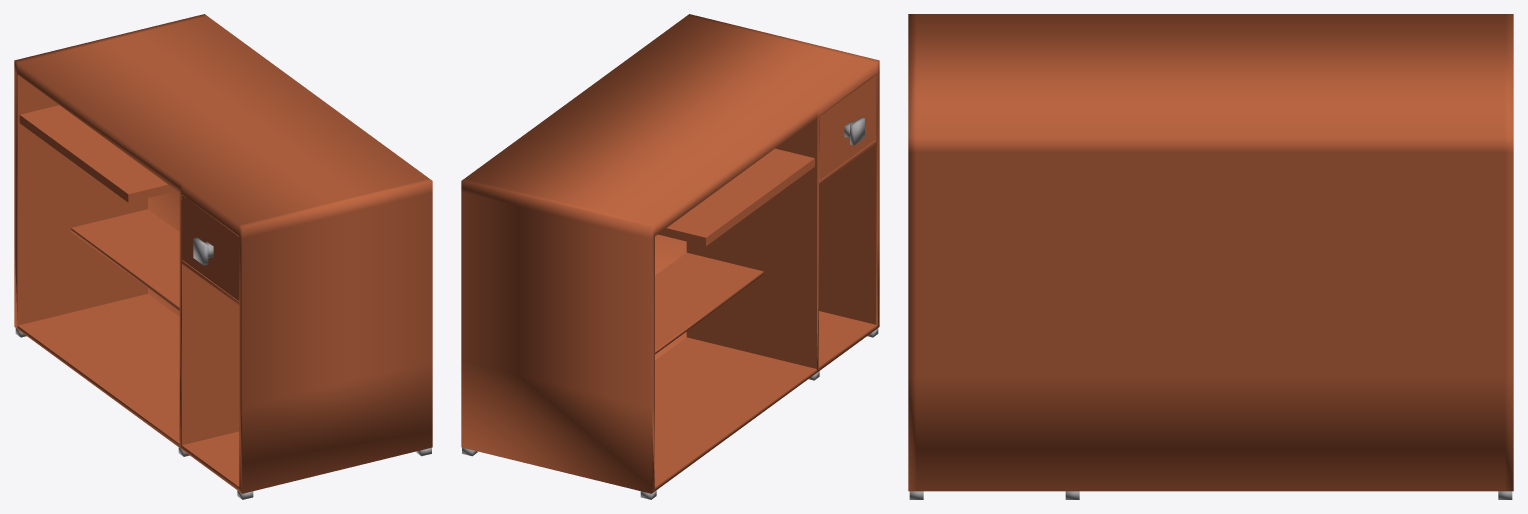
Rendered from desk.obj.
3 views of the same model, side by side, from view 1: azimuth 30°, elevation 25°; view 2: azimuth 150°, elevation 25°; view 3: azimuth 270°, elevation 25° (orthographic). The views are drawn at different scales.
Parts seen in each view (by area): view 1: Desk_bedroom.024; view 2: Desk_bedroom.024; view 3: Desk_bedroom.024.
Part boxes in pixels (x1,y1,x2,y2): Desk_bedroom.024: [14, 14, 432, 499]; Desk_bedroom.024: [461, 14, 879, 499]; Desk_bedroom.024: [908, 14, 1513, 499].
Bounding box in the file's own units: 1.24 × 1.51 × 2.28.
2 materials, 2 textured.
